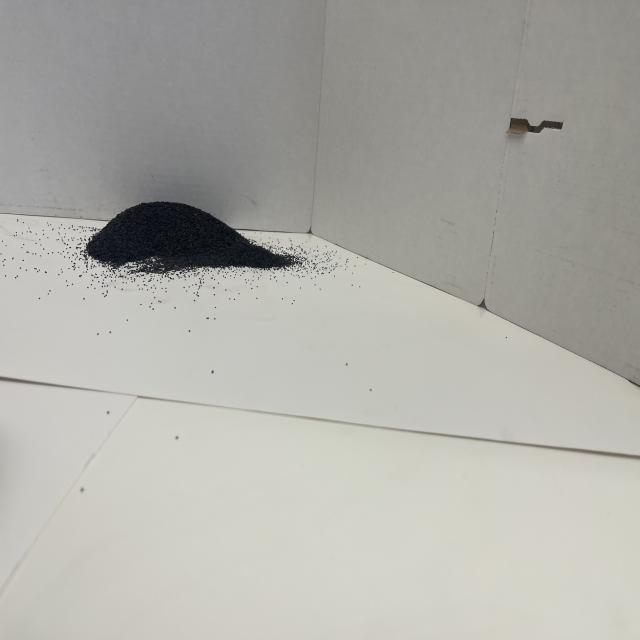Poppy Seeds: (59, 193, 298, 299)
